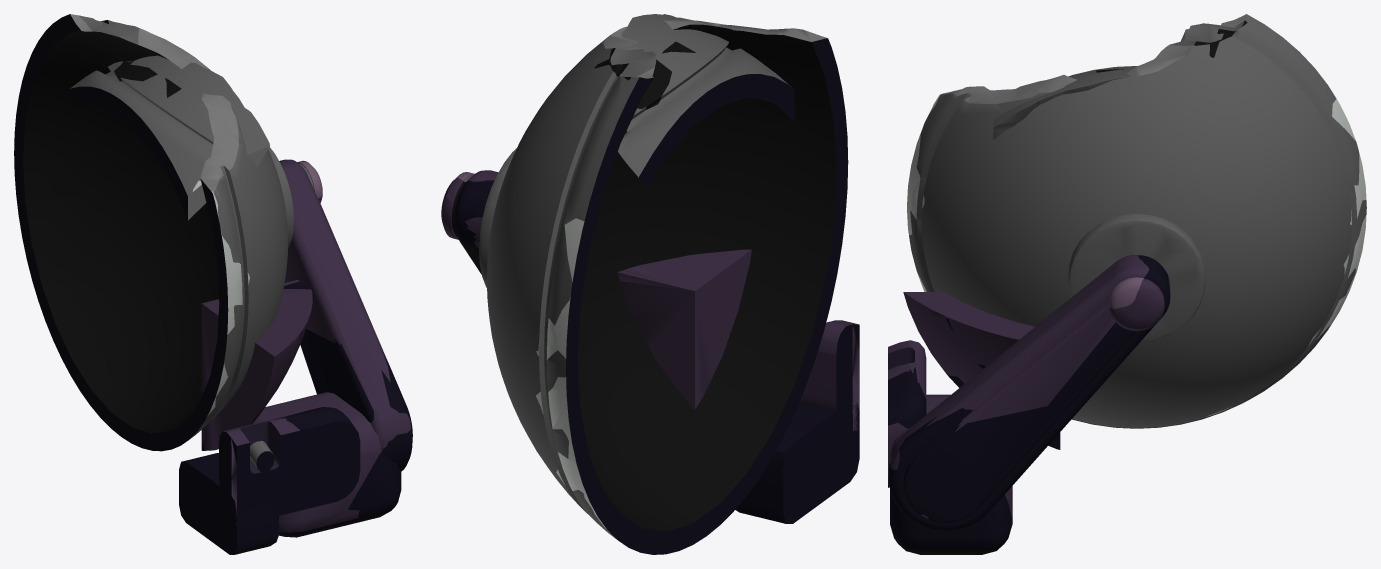
File: ice_globe_tr_wreck.glb
The picture shows the model from 3 angles, left to right: view 1: azimuth 30°, elevation 25°; view 2: azimuth 150°, elevation 25°; view 3: azimuth 270°, elevation 25°; orthographic projection. The views are drawn at different scales.
Parts seen in each view (by area): view 1: sphere.001, arm_r.001, shell_piece.001, thigh_r.001, cradle_r.001, hip_r.001, pelvis.001, hub_r.001, thigh_rod_r.001; view 2: sphere.001, shell_piece.001, cradle_r.001, pelvis.001, thigh_r.001, arm_r.001, hub_r.001, arm_cap_r.001; view 3: sphere.001, arm_panel_r.001, arm_r.001, hub_r.001, cradle_r.001, hip_r.001, thigh_r.001, arm_cap_r.001, shell_piece.001.
Part boxes in pixels (<box>): sphere.001: <box>14,14,287,451</box>; arm_r.001: <box>279,159,412,471</box>; shell_piece.001: <box>69,55,269,220</box>; thigh_r.001: <box>219,407,360,525</box>; cradle_r.001: <box>201,280,312,450</box>; hip_r.001: <box>252,392,401,537</box>; pelvis.001: <box>179,453,278,554</box>; hub_r.001: <box>268,147,293,248</box>; thigh_rod_r.001: <box>250,441,274,471</box>; sphere.001: <box>487,17,848,554</box>; shell_piece.001: <box>618,14,794,185</box>; cradle_r.001: <box>617,249,751,409</box>; pelvis.001: <box>735,402,859,523</box>; thigh_r.001: <box>799,320,859,430</box>; arm_r.001: <box>454,170,498,274</box>; hub_r.001: <box>479,148,516,287</box>; arm_cap_r.001: <box>441,172,474,239</box>; sphere.001: <box>907,14,1366,428</box>; arm_panel_r.001: <box>903,301,1135,522</box>; arm_r.001: <box>889,255,1170,531</box>; hub_r.001: <box>1068,214,1205,342</box>; cradle_r.001: <box>903,292,1060,449</box>; hip_r.001: <box>890,394,1012,554</box>; thigh_r.001: <box>888,340,926,487</box>; arm_cap_r.001: <box>1109,277,1164,330</box>; shell_piece.001: <box>993,66,1137,139</box>.
Size of the model in its own units: 12.5 by 26.47 by 25.02.
